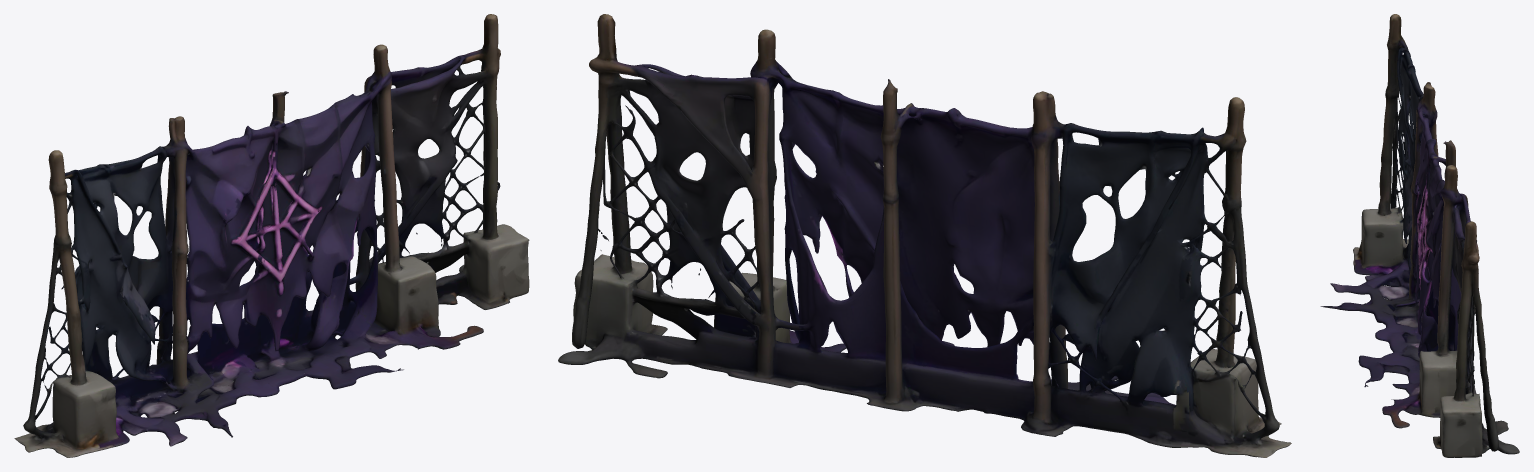
File: SM_Prop_RuinedFabricBarricade_01.fbx
The picture shows the model from 3 angles, left to right: view 1: azimuth 30°, elevation 25°; view 2: azimuth 150°, elevation 25°; view 3: azimuth 270°, elevation 25°; orthographic projection. The views are drawn at different scales.
Visible parts, largest first — view 1: SM_Prop_RuinedFabricBarricade_01; view 2: SM_Prop_RuinedFabricBarricade_01; view 3: SM_Prop_RuinedFabricBarricade_01.
Part boxes in pixels (box(x1,y1,x2,y2)): SM_Prop_RuinedFabricBarricade_01: box(14, 14, 529, 457); SM_Prop_RuinedFabricBarricade_01: box(558, 14, 1291, 457); SM_Prop_RuinedFabricBarricade_01: box(1320, 14, 1519, 457).
Size of the model in its own units: 0.9933 by 0.5042 by 0.3804.
1 material, 1 textured.
